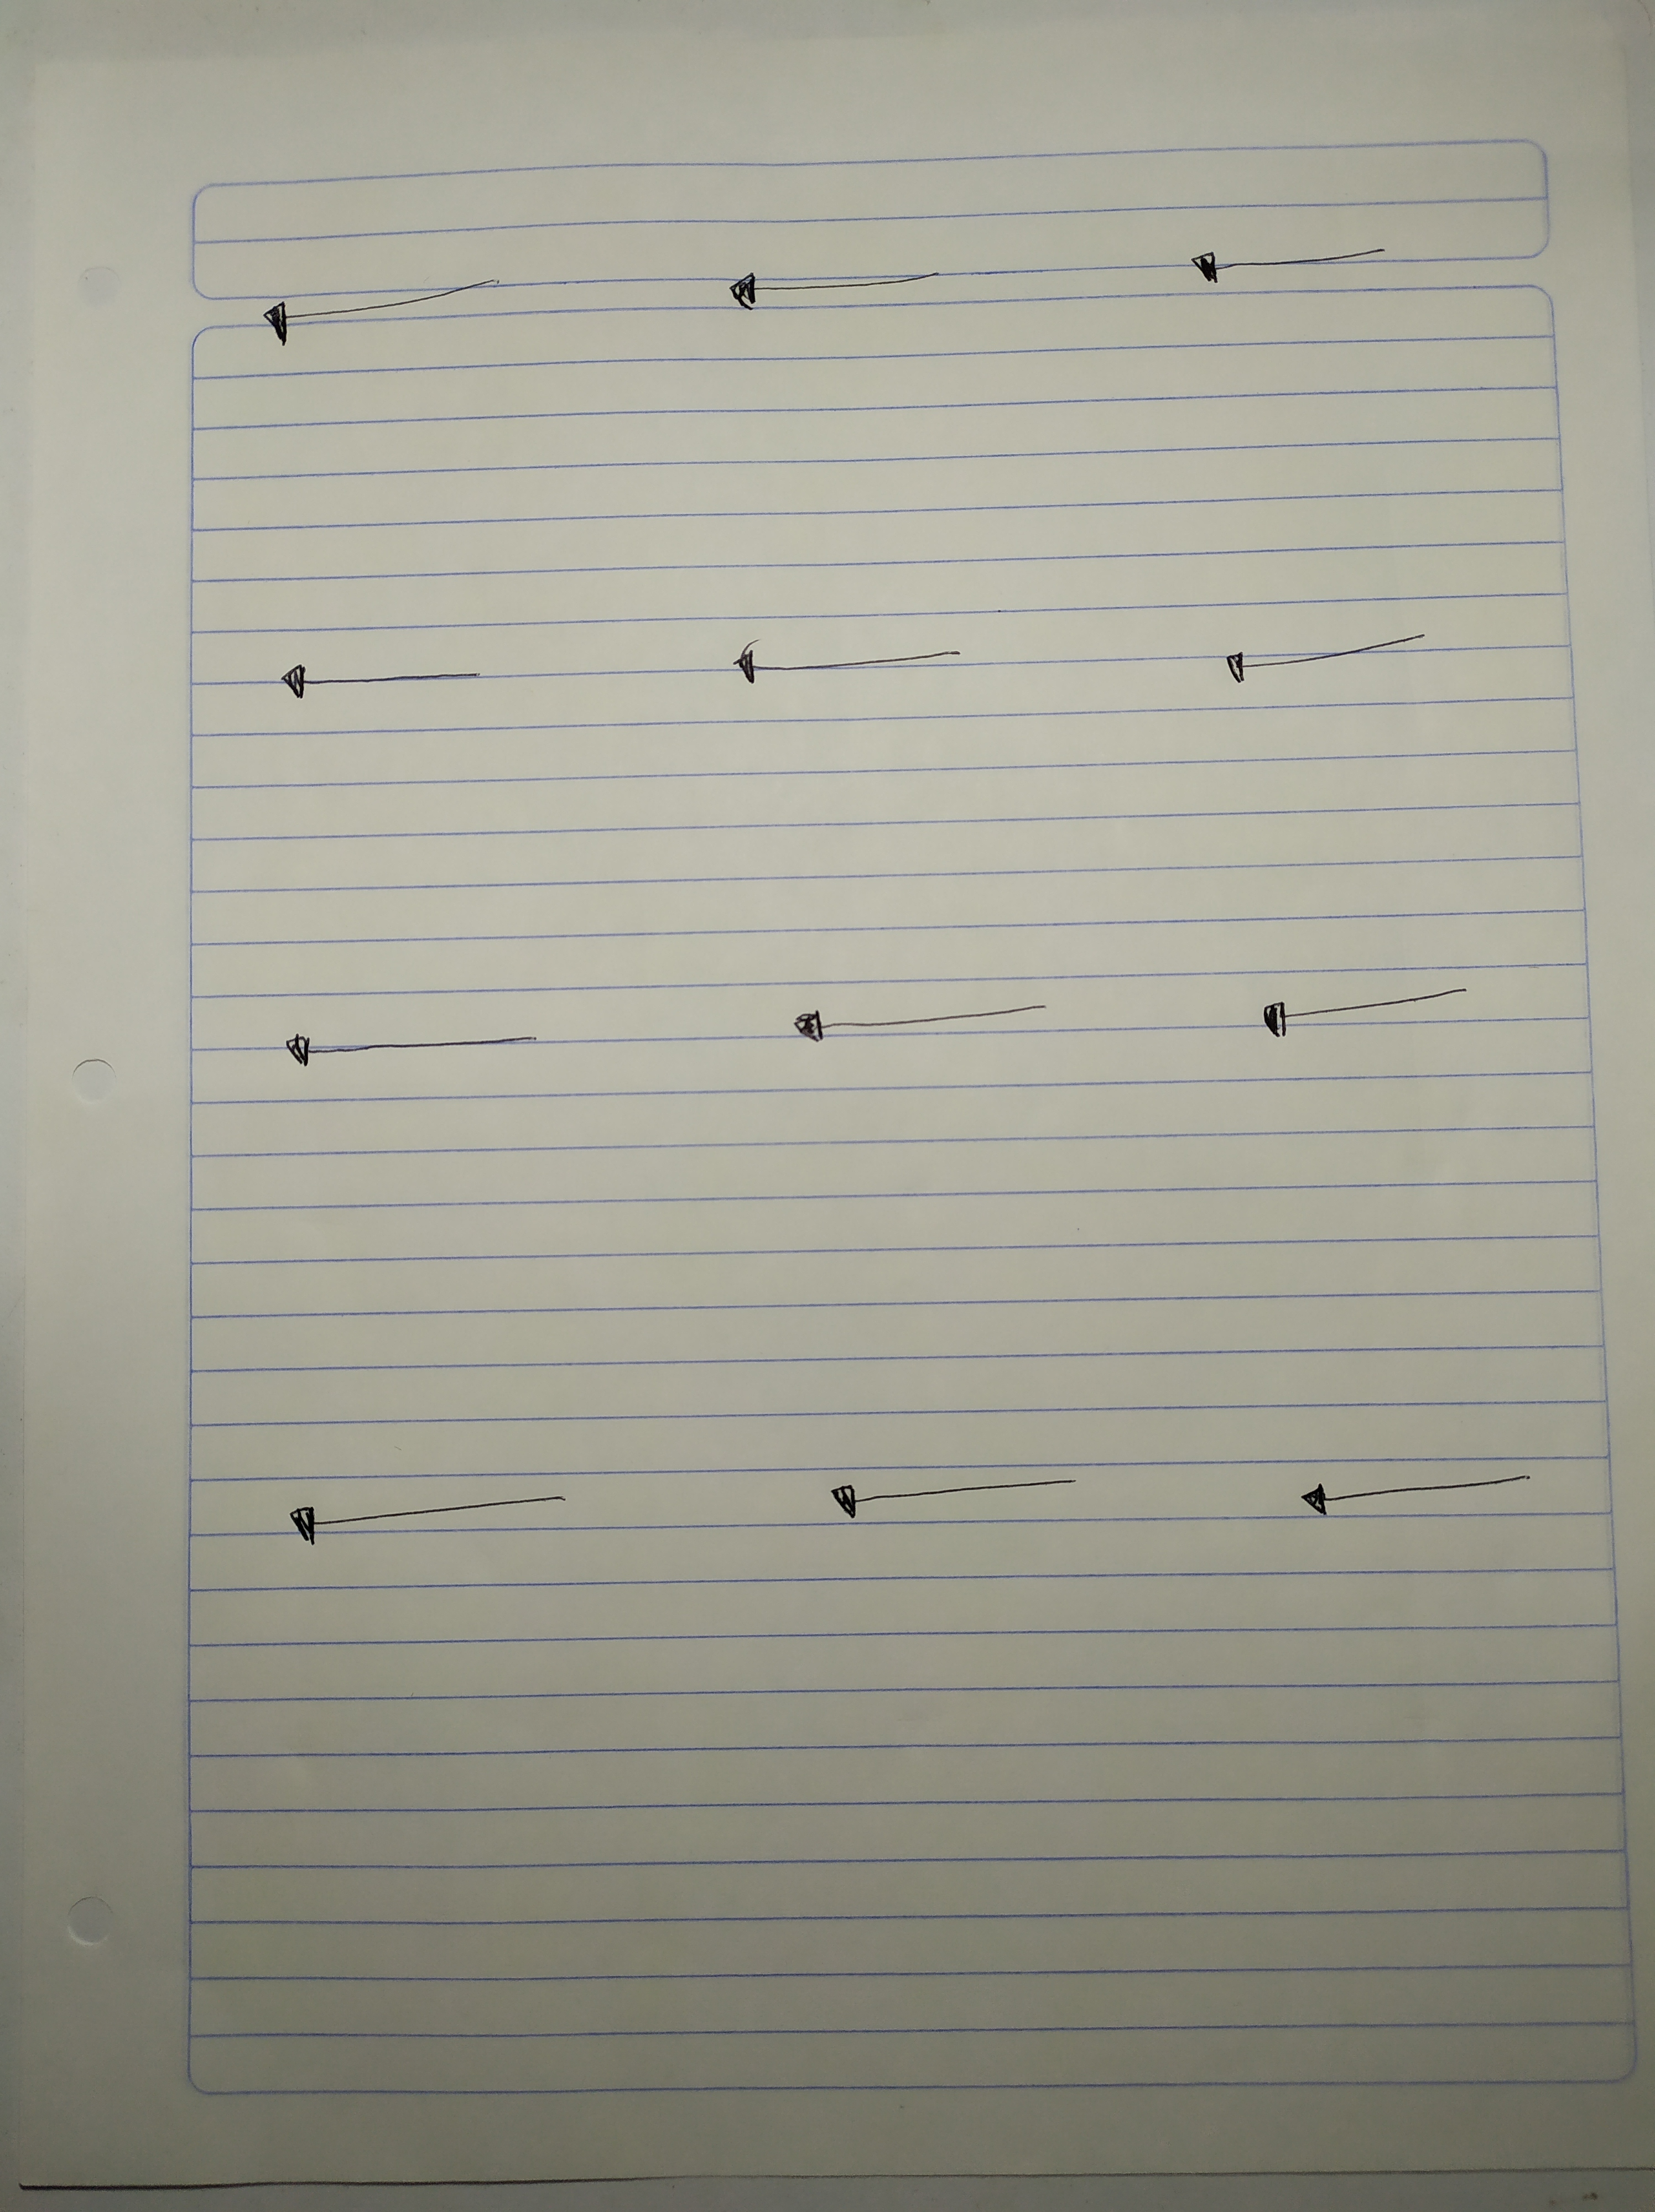arrow_line_left: (788, 1458, 1127, 1559), (1210, 950, 1516, 1062), (749, 971, 1076, 1074), (1276, 1454, 1584, 1562), (249, 997, 589, 1088), (257, 1474, 586, 1562), (716, 238, 1005, 335), (706, 631, 996, 719), (1201, 615, 1459, 714), (250, 271, 523, 363), (250, 636, 516, 730), (1153, 228, 1443, 297)
